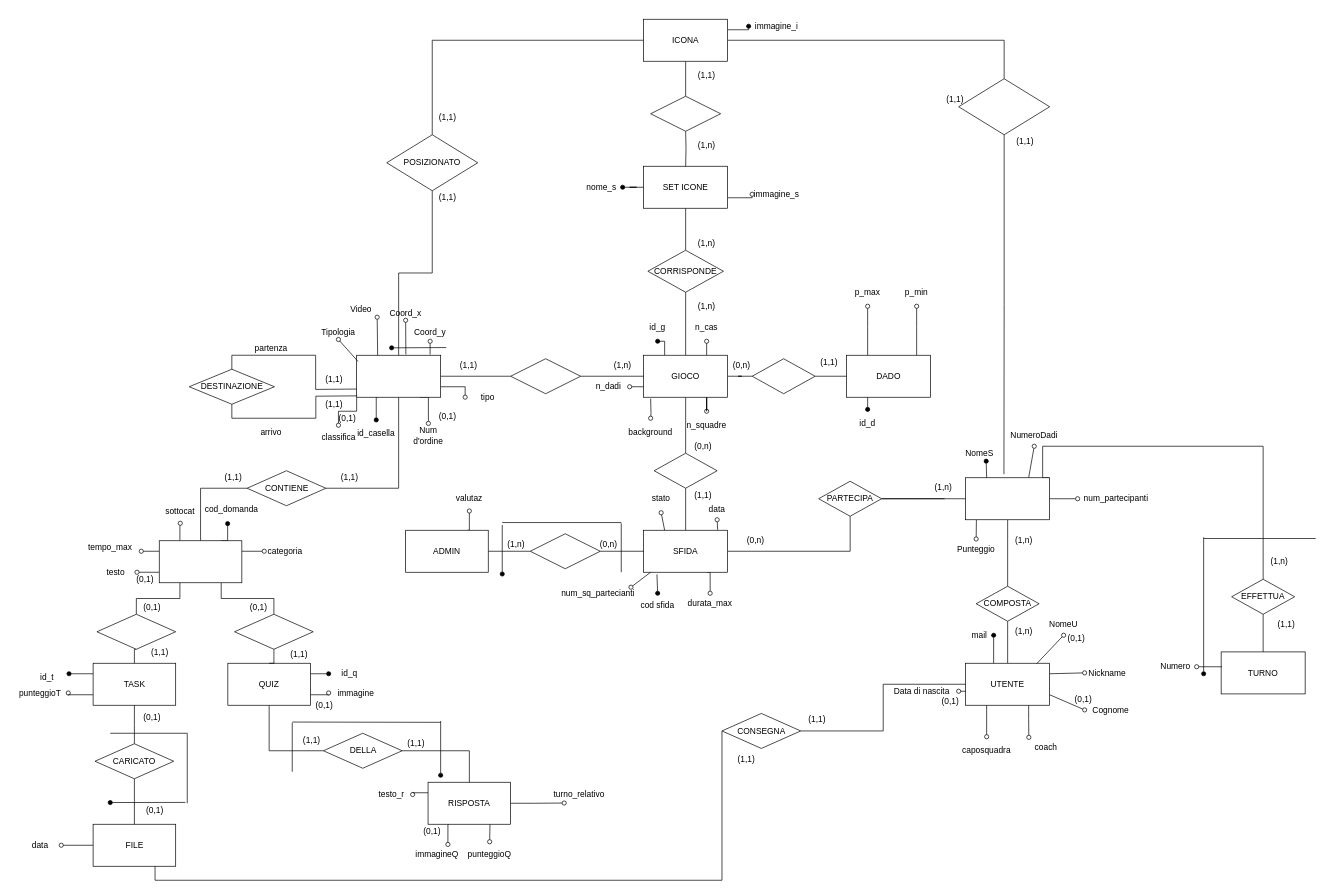
This 1329x893 diagram has some shape labels left out. Each missing label, with the centre of its shape:
"APPARTIENE" goes at (x=545, y=376).
"CASELLA" goes at (x=398, y=376).
"CON" goes at (x=783, y=376).
"DOM_QUIZ" goes at (x=273, y=631).
"DOM_TASK" goes at (x=136, y=631).
"DOMANDA" goes at (x=200, y=561).
"HA" goes at (x=685, y=470).
"RAPPRESENTATO" goes at (x=1004, y=106).
"RELATIVA" goes at (x=685, y=113).
"RELATIVO" goes at (x=565, y=551).
"SQUADRA" goes at (x=1007, y=498).
